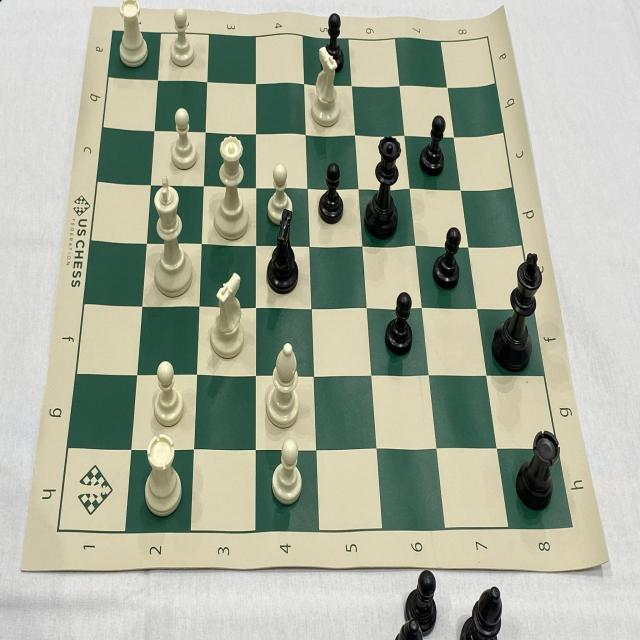black-king: (489, 246, 544, 378)
black-knight: (263, 208, 304, 296)
black-pawn: (430, 223, 464, 292), (382, 287, 416, 356), (418, 112, 449, 182), (315, 160, 347, 227), (323, 9, 345, 72)
black-queen: (362, 133, 403, 243)
black-rook: (512, 416, 562, 517)
white-bishop: (265, 336, 302, 429)
white-king: (147, 172, 195, 298)
white-knight: (208, 266, 248, 359), (309, 44, 343, 130)
white-pawn: (266, 436, 304, 506), (150, 358, 187, 427), (166, 105, 198, 171), (166, 3, 196, 68), (266, 160, 294, 223)
white-queen: (213, 128, 251, 244)
white-rook: (138, 431, 188, 519)
